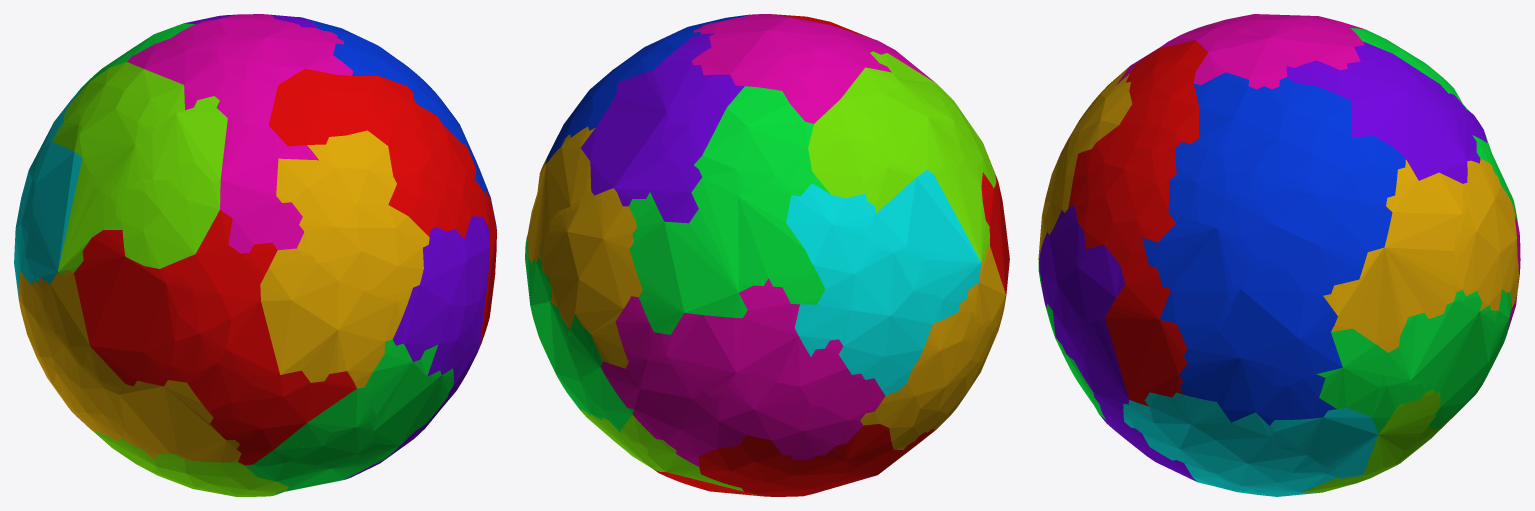
Rendered from SphereH_L3.fbx.
3 views of the same model, side by side, from view 1: azimuth 30°, elevation 25°; view 2: azimuth 150°, elevation 25°; view 3: azimuth 270°, elevation 25° (orthographic).
Size of the model in its own units: 2 by 2.01 by 2.
